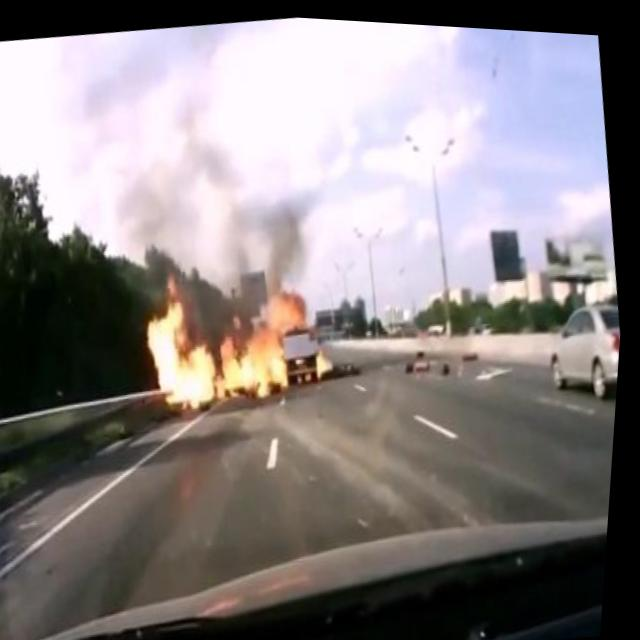fire: (135, 248, 323, 425), (314, 333, 343, 381)
